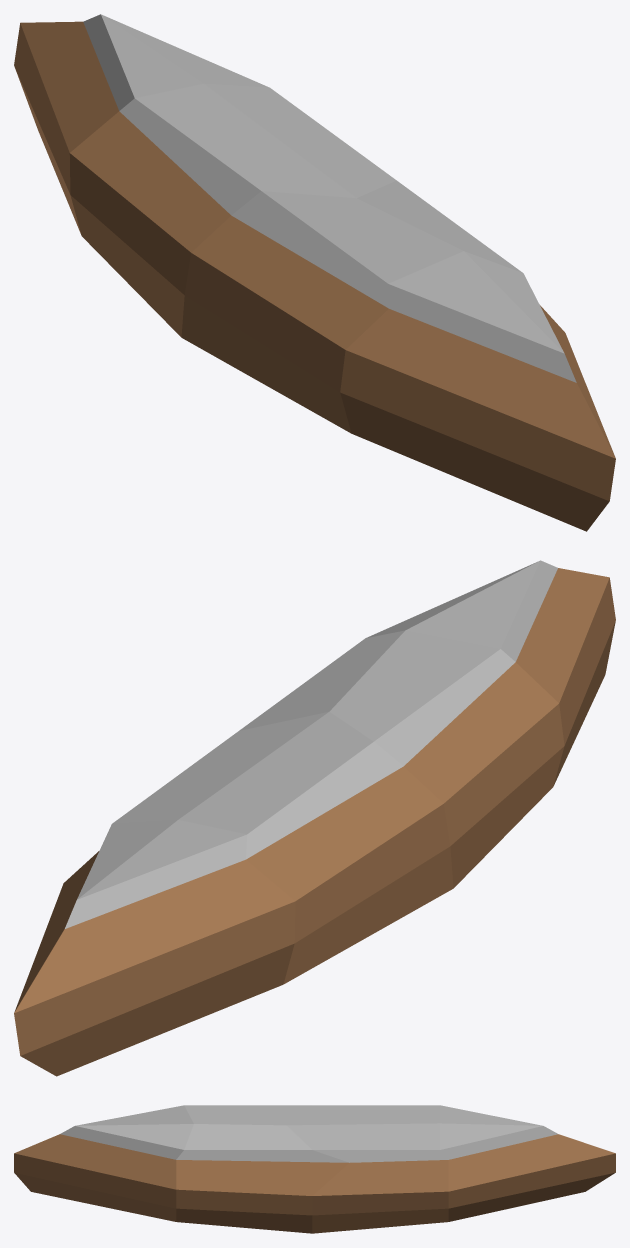
The model's file is Boat_3 Winter.fbx.
3 renders of one model, top to bottom at view 1: azimuth 30°, elevation 25°; view 2: azimuth 150°, elevation 25°; view 3: azimuth 270°, elevation 25°, orthographic. The views are drawn at different scales.
Parts seen in each view (by area): view 1: Boat3Winter_mesh; view 2: Boat3Winter_mesh; view 3: Boat3Winter_mesh.
Part boxes in pixels (x1,y1,x2,y2): Boat3Winter_mesh: (14,14,615,531); Boat3Winter_mesh: (14,560,615,1076); Boat3Winter_mesh: (14,1105,615,1233).
Bounding box in the file's own units: 131 × 80.91 × 502.
